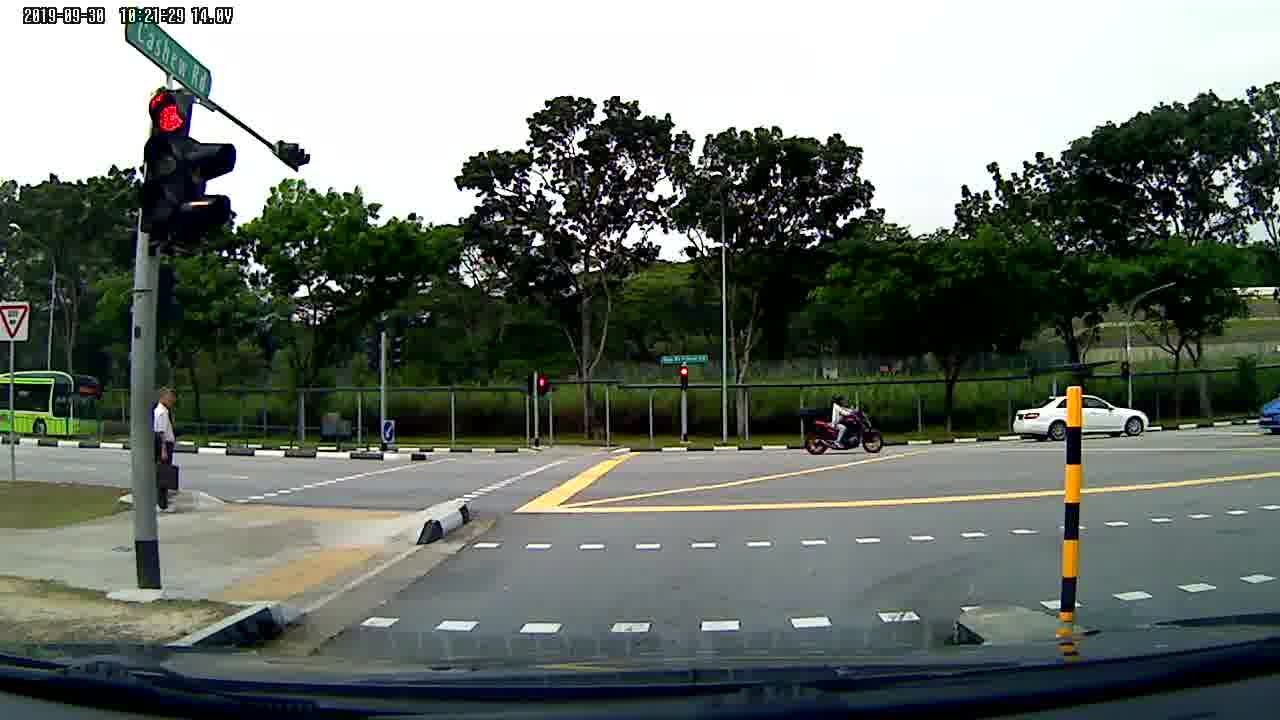bus: (1, 366, 101, 440)
car: (1012, 391, 1153, 438)
